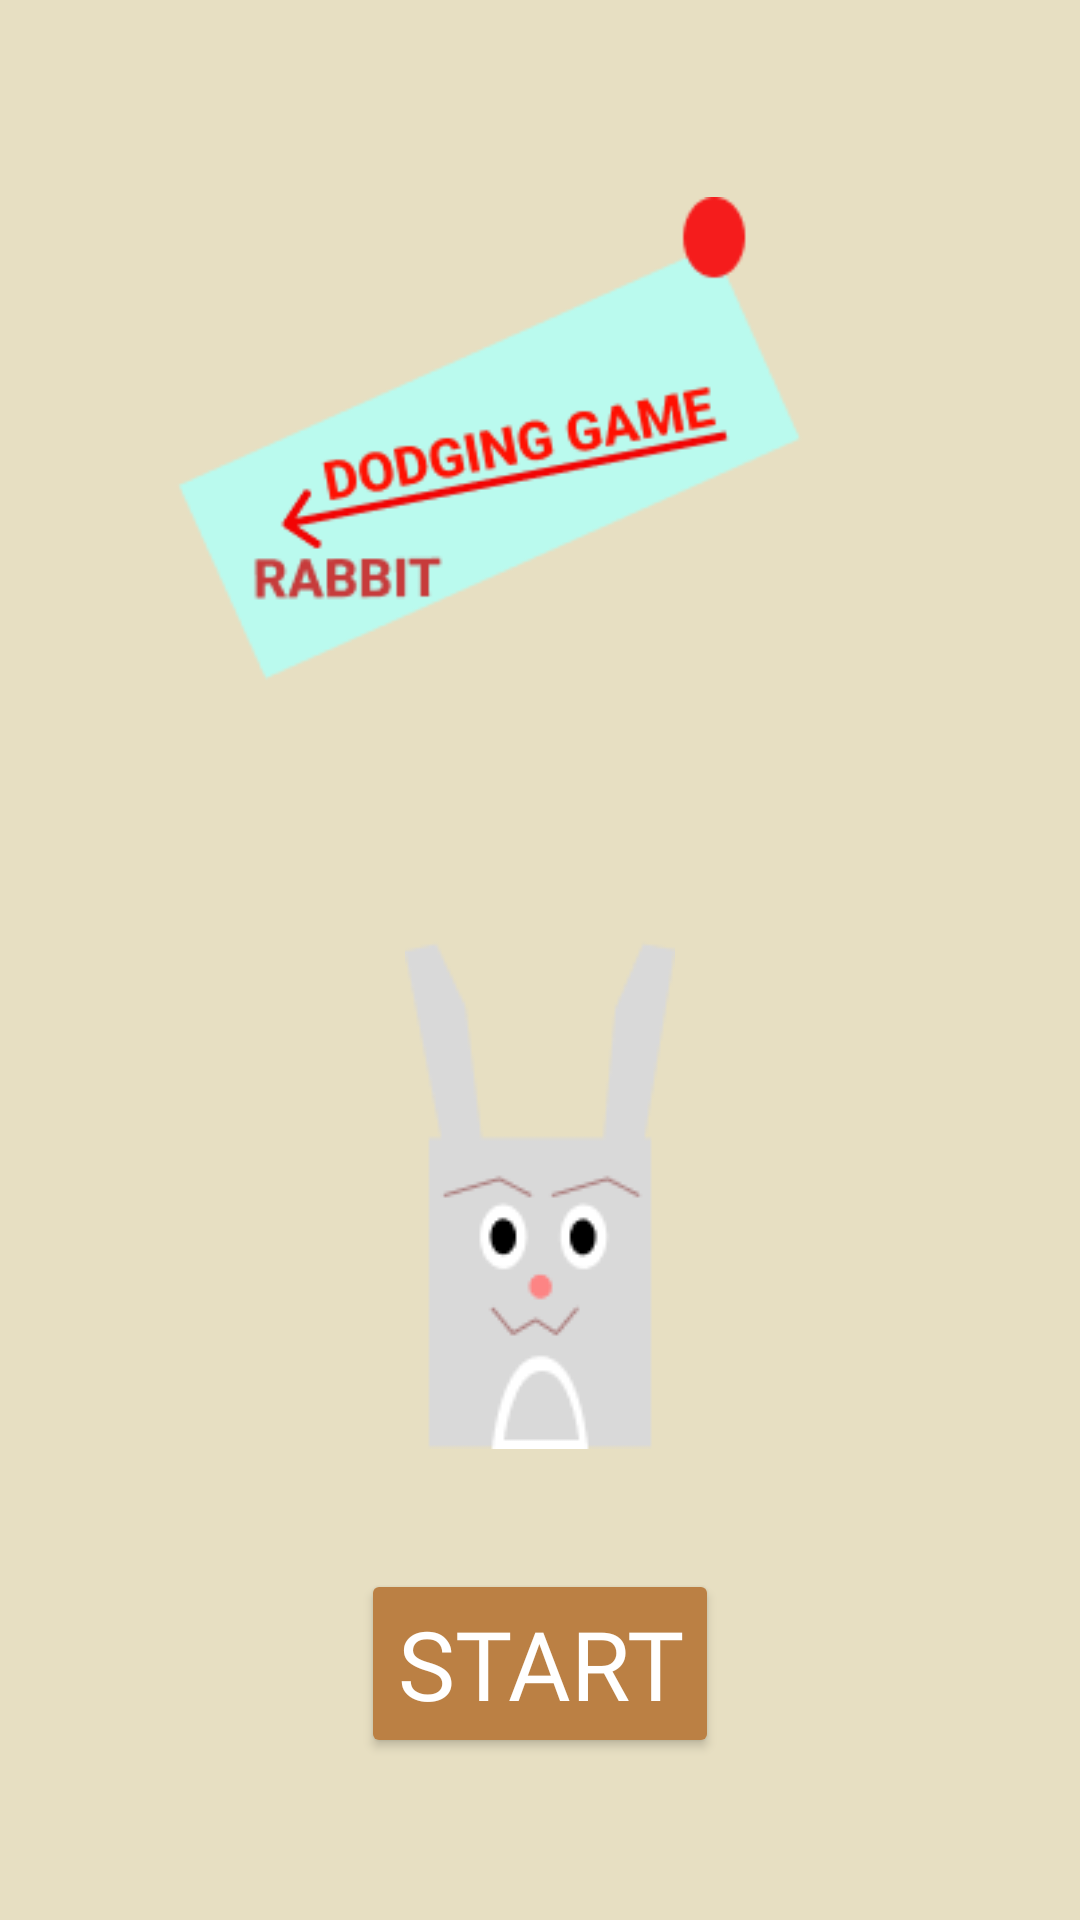

Where icons sit on this 1080x1920 app screen, as (x1, y1, x2, y2):
rabbit: (443, 1176, 640, 1449)
